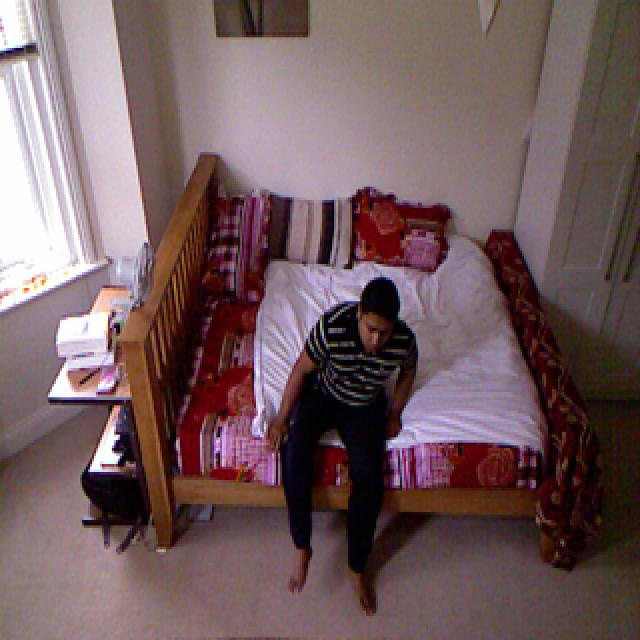sitting: (273, 283, 422, 592)
